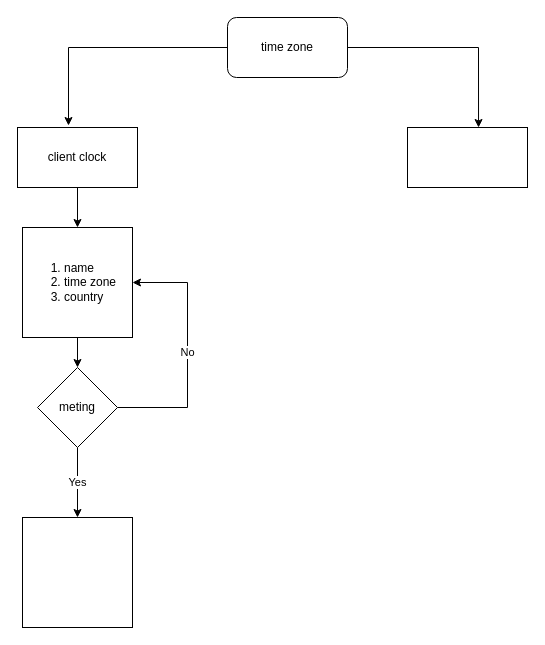
The diagram is 545 pixels wide and 645 high, and some of its shapes have lost their labels. Here are the shapes that lost their labels. From the top down, the centre of each, then its label:
the point at 467,157: my clock time zone (editable)
the point at 77,572: title client time my time
